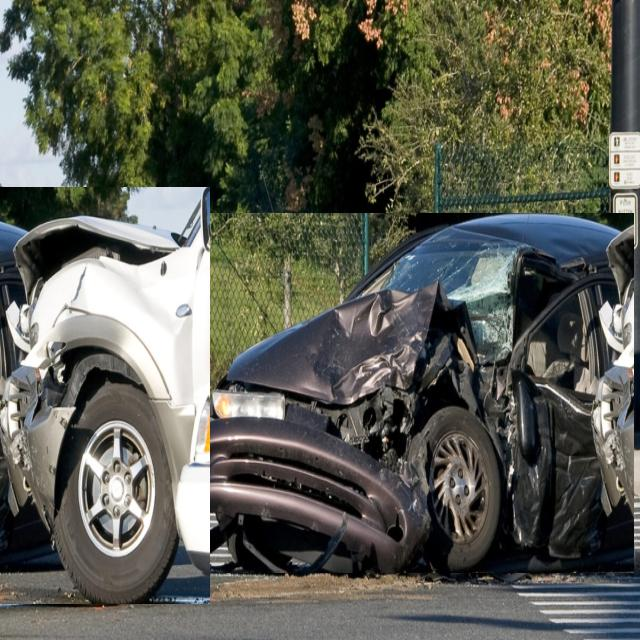accident: (169, 214, 634, 573), (0, 187, 210, 604)
